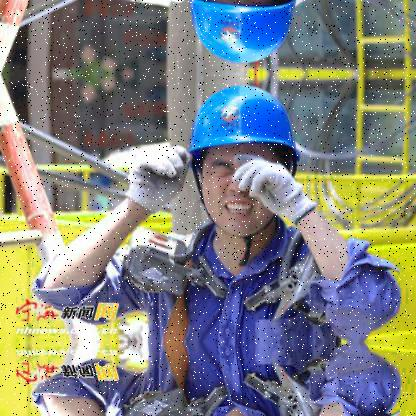Helmet: (182, 80, 307, 248), (178, 0, 307, 75)
